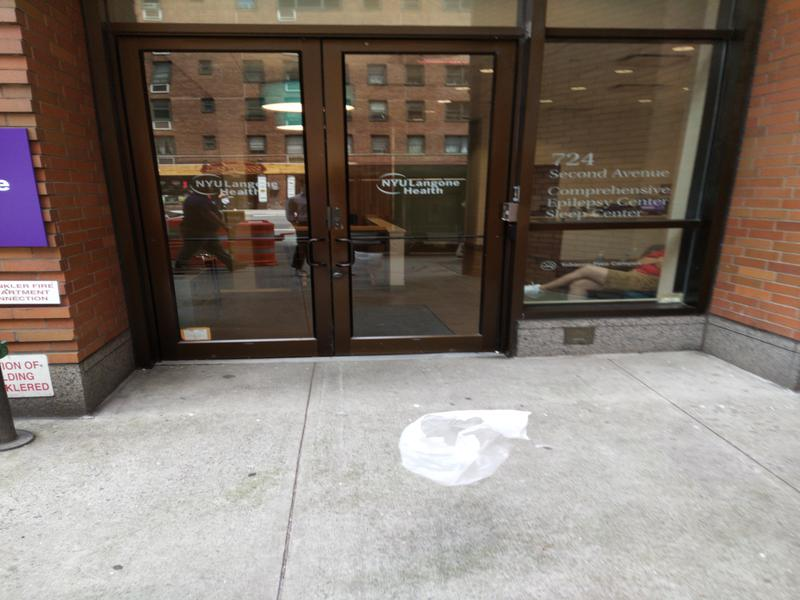double_door: (116, 18, 519, 364)
